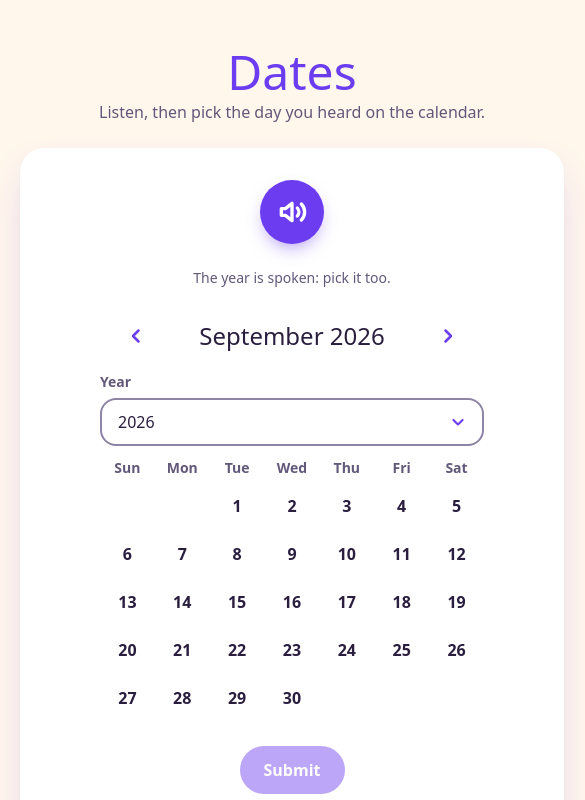
Test case: a wrong answer shows the expected date in digits and its Korean
What coordinates should you click on to do the following:
click the button named "21 September 2026"
I would click on:
 (182, 650)
Its box is [160,628,204,672].
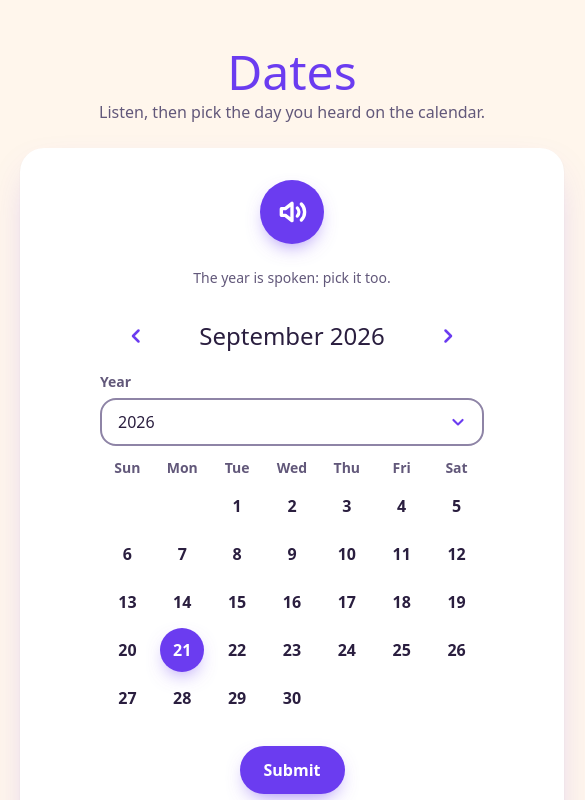
What coordinates should you click on to do the following:
click the button "Submit"
I would click on:
 (292, 770)
Its box is [240,746,344,794].
(page scrolled)
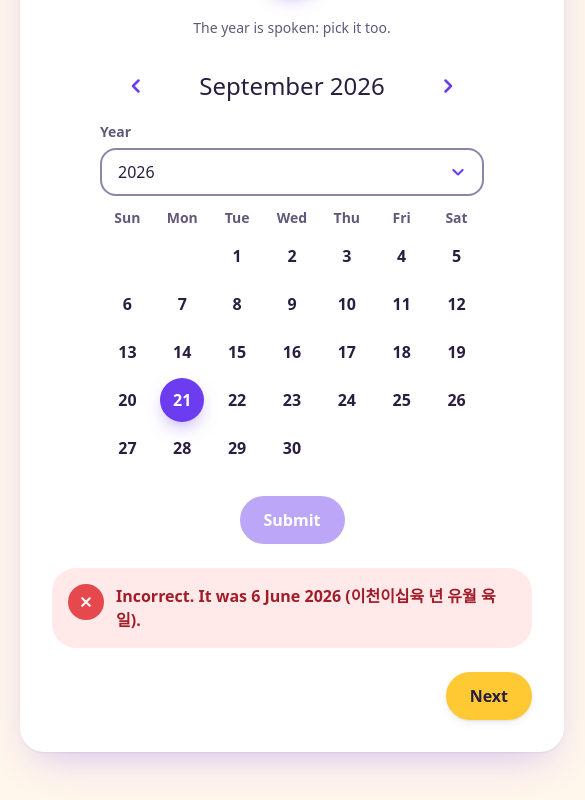
Check: the message shows "6 June 2026", box [251,585,341,607]
Check: the message shows "이천이십육 년 유월 육 일", box [116,585,496,631]
Check: the text "이천이십육 년 유월 육 일" is shown, box [116,585,496,631]
